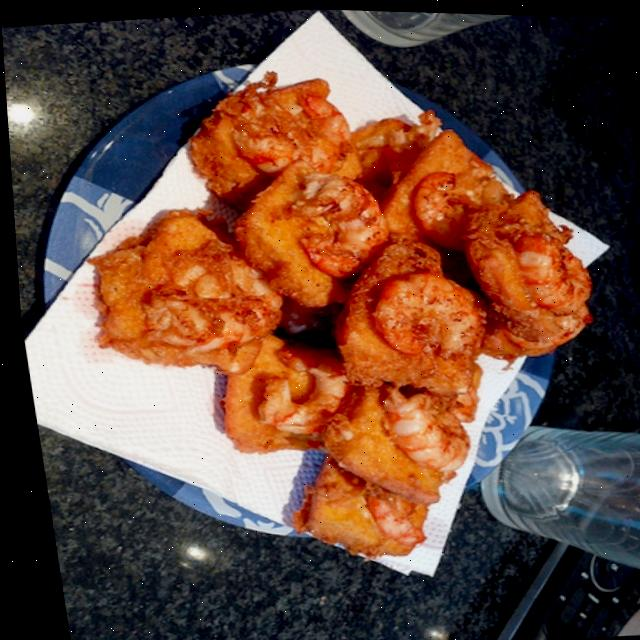炸货点心: (0, 0, 640, 619)
熟制海鲜: (0, 0, 640, 619)
